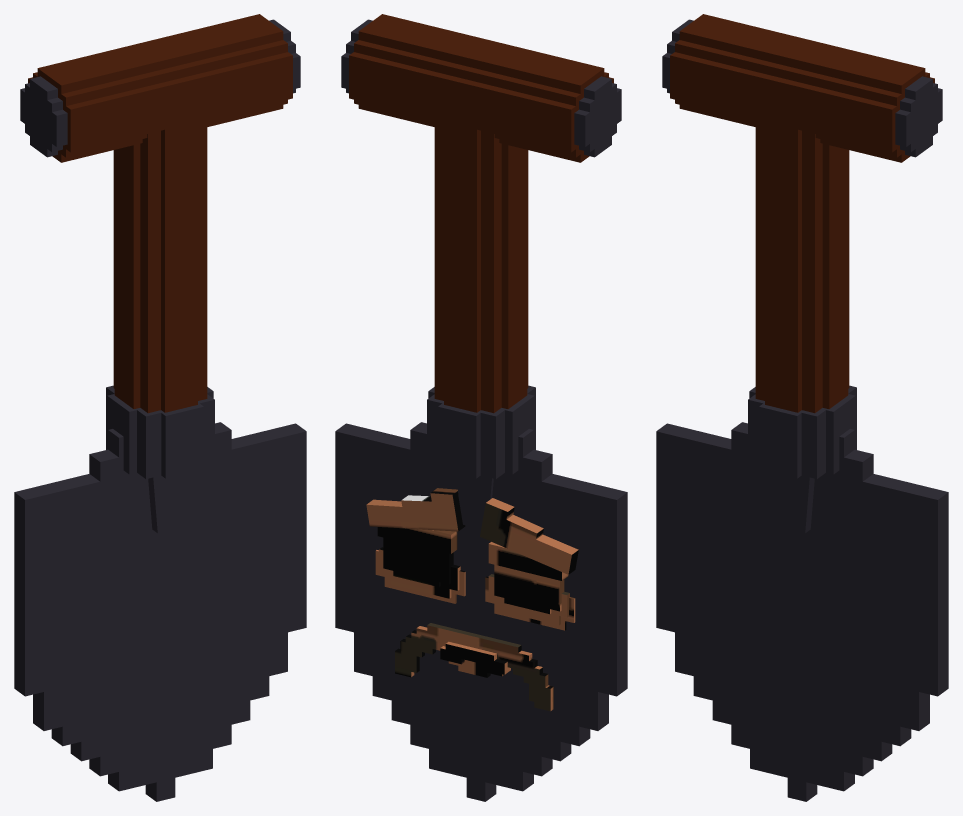
3 views of the same model, side by side, from view 1: azimuth 30°, elevation 25°; view 2: azimuth 150°, elevation 25°; view 3: azimuth 330°, elevation 25° (orthographic).
Parts seen in each view (by area): view 1: Cylinder0031, Cylinder0011; view 2: Cylinder0031, Cylinder0011, Cube0031; view 3: Cylinder0031, Cylinder0011.
Part boxes in pixels (x1,y1,x2,y2): Cylinder0031: (14,19,306,801); Cylinder0011: (28,14,292,413); Cylinder0031: (335,19,627,801); Cylinder0011: (349,14,613,413); Cube0031: (366,488,578,711); Cylinder0031: (656,19,948,801); Cylinder0011: (670,14,934,413).
Bounding box in the file's own units: 3.52 × 8.91 × 1.05.
